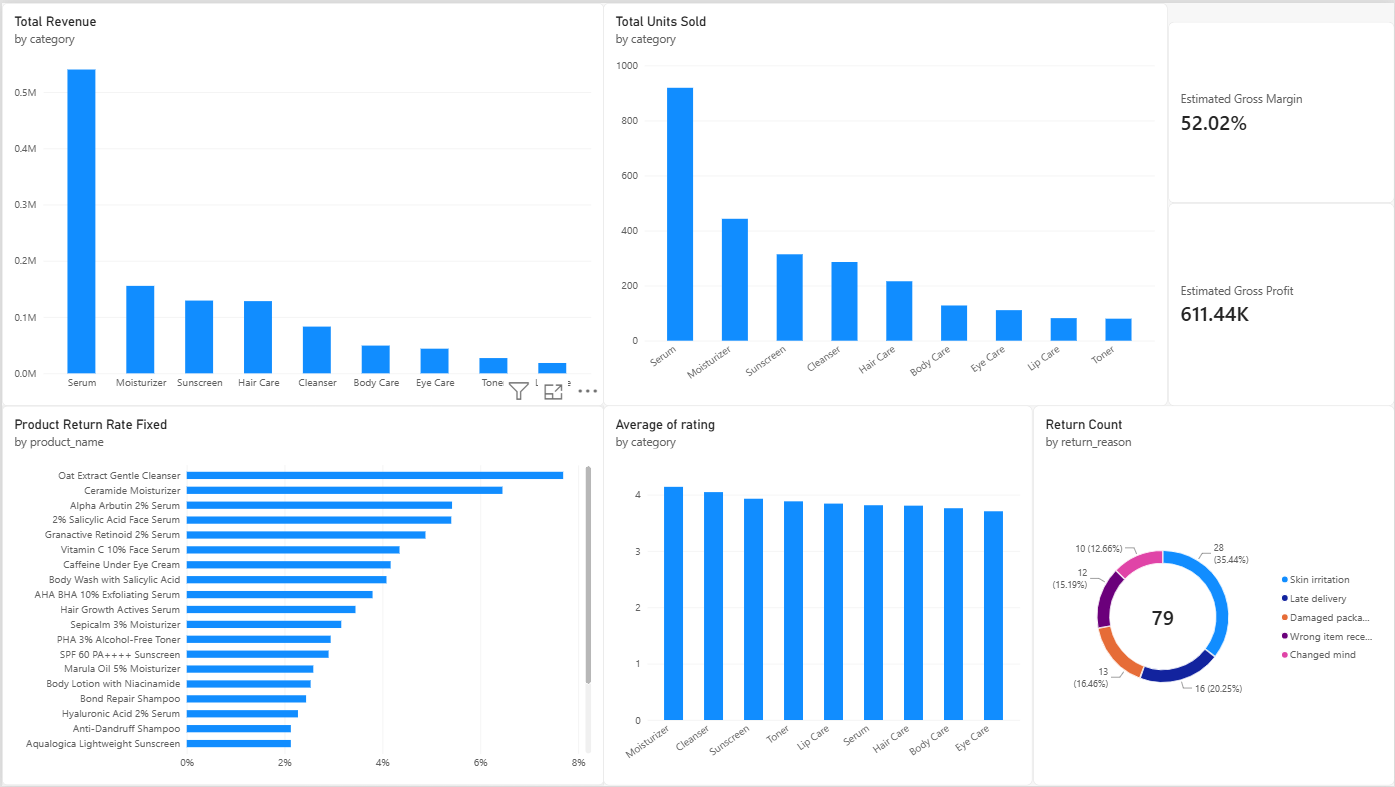

What the dashboard file says about the page in this screenshot:
{"tool":"powerbi","page":{"name":"Product & Returns","canvas":[1920,1080],"ordinal":2},"visuals":[{"type":"clusteredColumnChart","fields":{"Category":["Products.category"],"Y":["Customers.Total Revenue"]},"box":[0,0,830,556],"z":0},{"type":"clusteredColumnChart","fields":{"Category":["Products.category"],"Y":["Customers.Total Units Sold"]},"box":[830,0,778,556],"z":1000},{"type":"donutChart","fields":{"Category":["Returns.return_reason"],"Y":["Returns.Return Count"]},"box":[1422,556,498,524],"z":2000},{"type":"clusteredBarChart","fields":{"Category":["Products.product_name"],"Y":["Customers.Product Return Rate Fixed"]},"box":[0,556,830,524],"z":3000},{"type":"clusteredColumnChart","fields":{"Category":["Products.category"],"Y":["Avg(Reviews.rating)"]},"box":[830,556,592,524],"z":4000},{"type":"cardVisual","fields":{"Data":["Customers.Estimated Gross Profit"]},"box":[1608,276,312,280],"z":5000},{"type":"cardVisual","fields":{"Data":["Customers.Estimated Gross Margin"]},"box":[1608,26,312,250],"z":6000}]}

Visuals, with their boxes in screenshot pixels (x1, y1, x2, y2), scaled from the page's 1920x1080 canvas onto the 1395x787 screenshot:
clusteredColumnChart - Products.category x Customers.Total Revenue: select_region(0, 0, 603, 405)
clusteredColumnChart - Products.category x Customers.Total Units Sold: select_region(603, 0, 1168, 405)
donutChart - Returns.return_reason x Returns.Return Count: select_region(1033, 405, 1394, 786)
clusteredBarChart - Products.product_name x Customers.Product Return Rate Fixed: select_region(0, 405, 603, 786)
clusteredColumnChart - Products.category x Avg(Reviews.rating): select_region(603, 405, 1033, 786)
cardVisual - Customers.Estimated Gross Profit: select_region(1168, 201, 1394, 405)
cardVisual - Customers.Estimated Gross Margin: select_region(1168, 19, 1394, 201)
